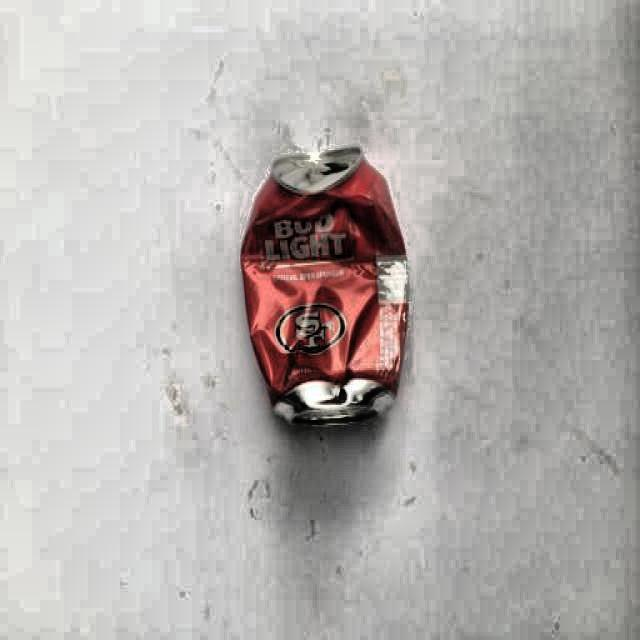metal: (240, 147, 410, 428)
